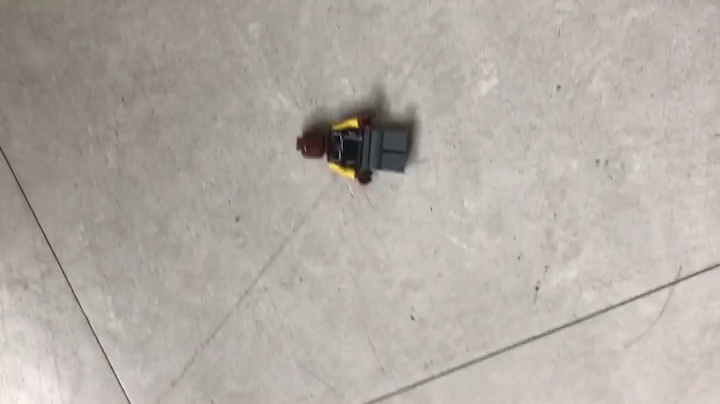people: (295, 113, 417, 186)
